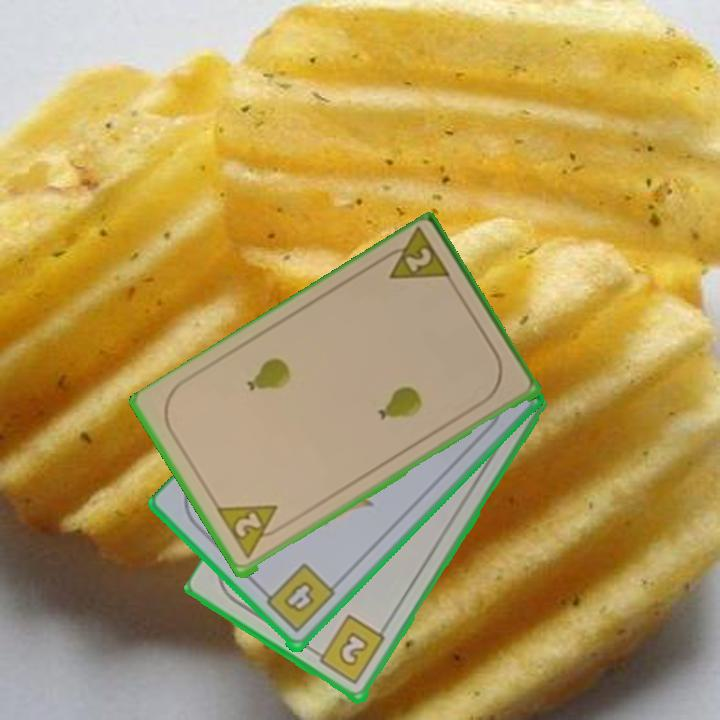2b: (309, 612, 388, 688)
2p: (375, 226, 455, 285), (214, 501, 290, 562)
4b: (257, 560, 338, 636)
